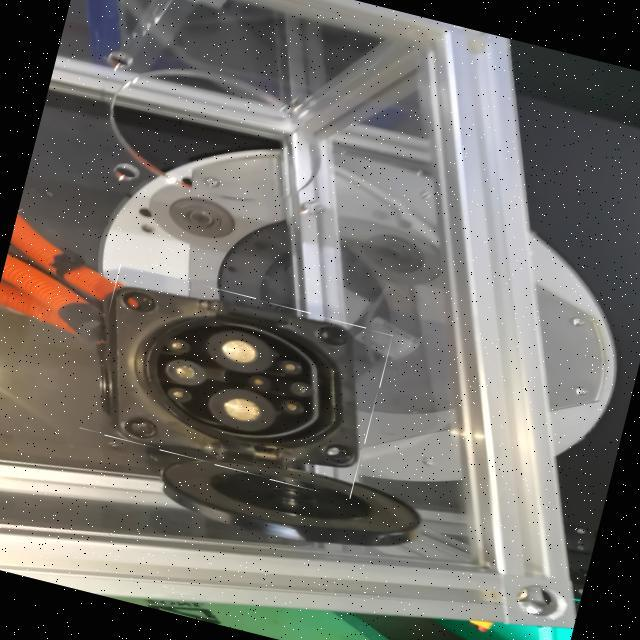GB-T: (99, 277, 374, 463)
